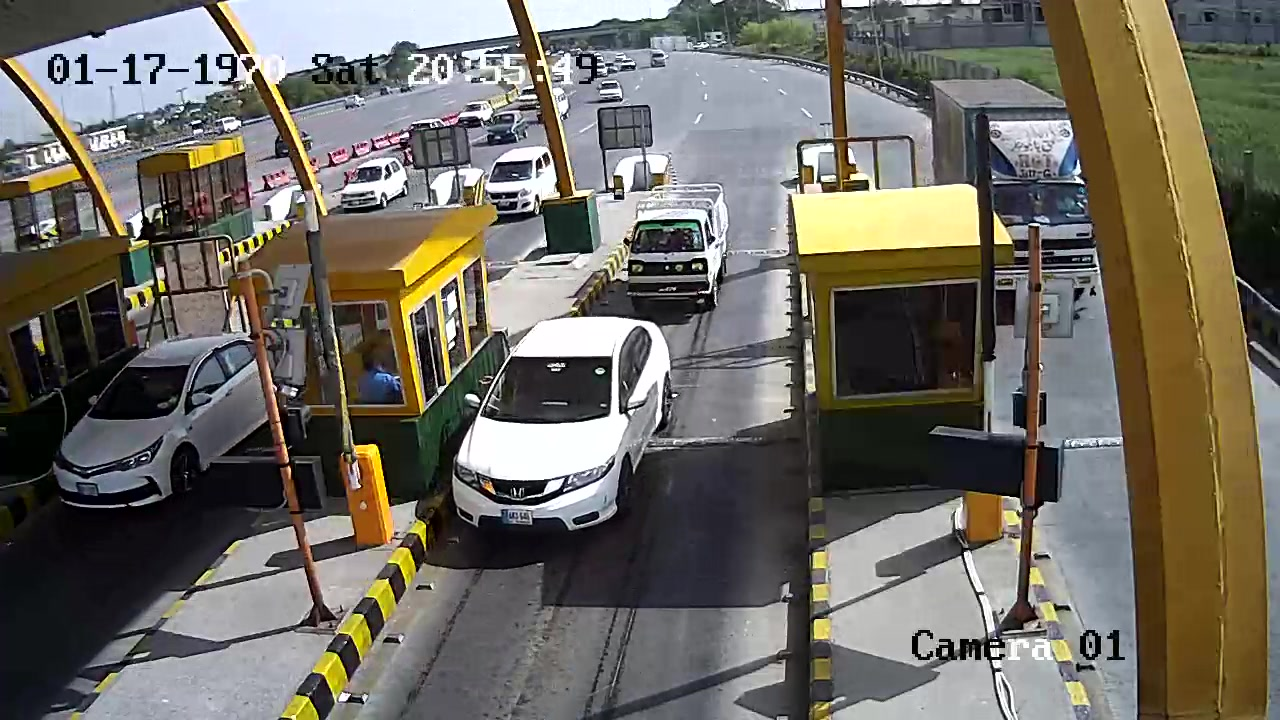F1: (437, 314, 684, 545), (622, 179, 737, 316)
